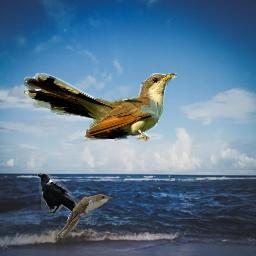Crow: (37, 171, 87, 216)
Cuckoo: (24, 73, 177, 141), (55, 194, 114, 238)
